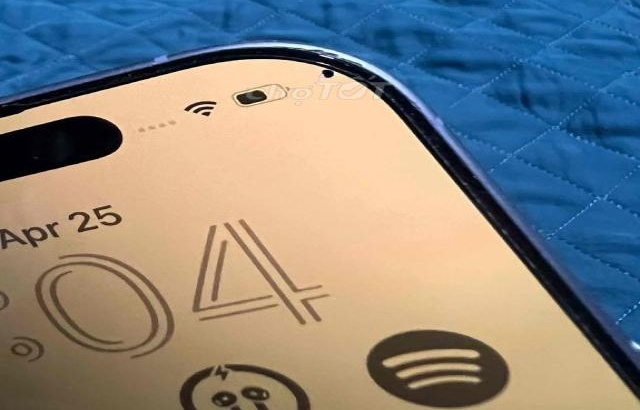screen_defect: (267, 39, 377, 105)
